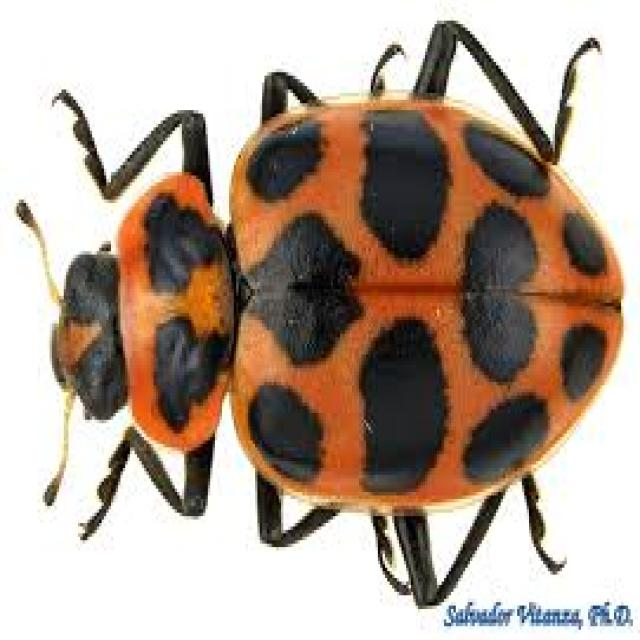bug: (0, 5, 640, 612)
